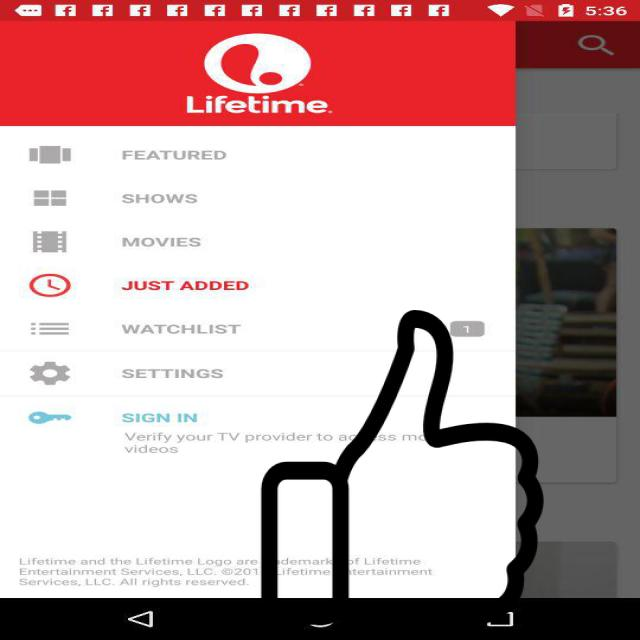privacy zuckering: (257, 310, 548, 627)
